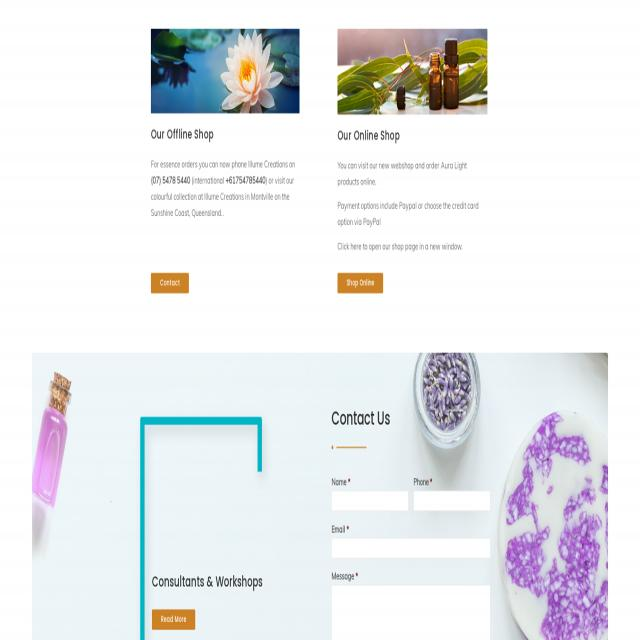button: (338, 29, 488, 114), (151, 29, 299, 113), (337, 273, 383, 293), (152, 609, 195, 630), (151, 273, 189, 293), (332, 446, 366, 450)
field: (332, 584, 490, 640), (332, 538, 490, 558), (414, 491, 491, 511), (332, 491, 408, 511)
